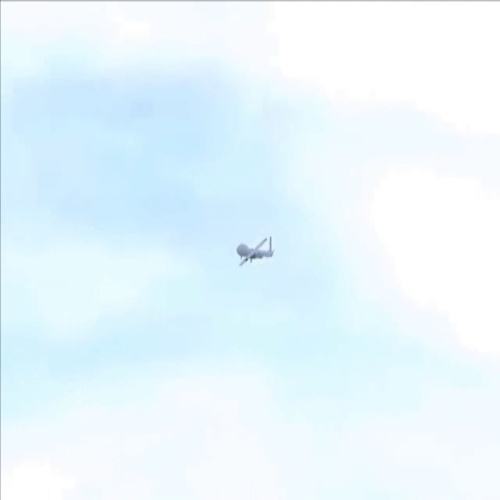uav939: (232, 234, 276, 270)
